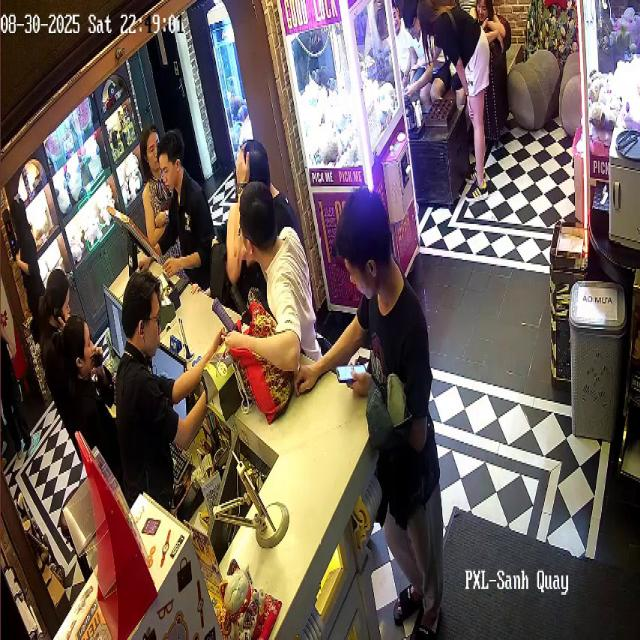khach: (334, 196, 451, 636), (235, 187, 317, 376), (422, 1, 494, 202), (232, 128, 306, 232), (404, 5, 449, 127), (140, 124, 169, 245), (472, 0, 507, 45)
nhan vien: (117, 263, 194, 499), (157, 127, 214, 278), (57, 320, 114, 471), (13, 184, 45, 312)
